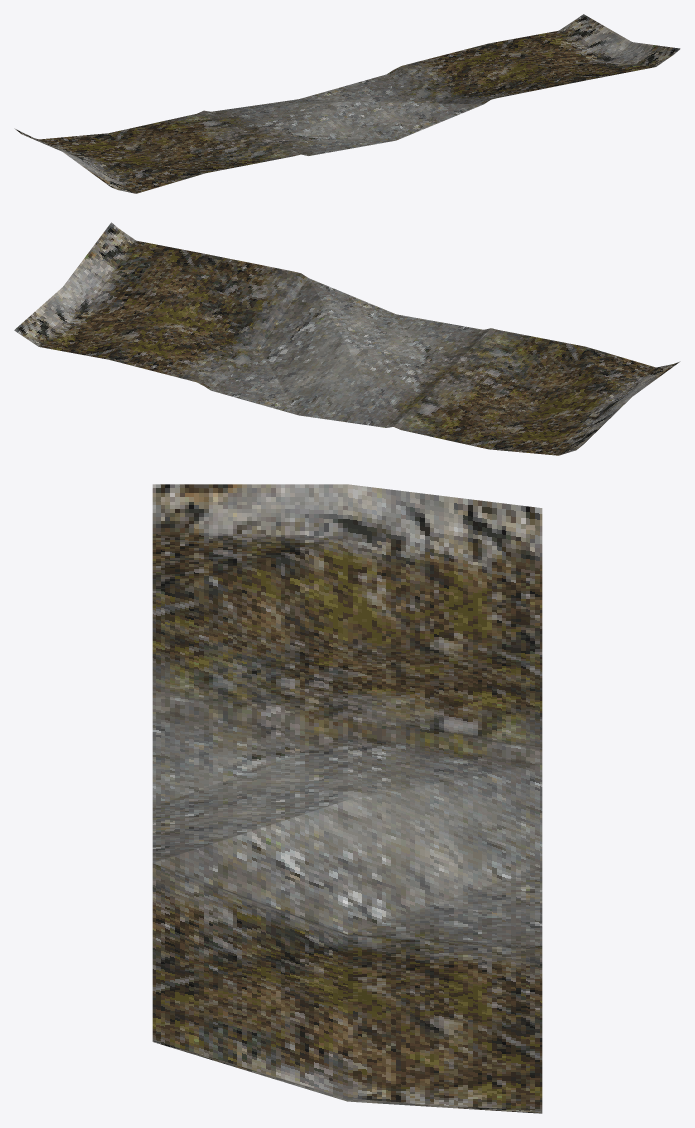
The model's file is 4_road_02_end_downHill.glb.
The picture shows the model from 3 angles, top to bottom: view 1: azimuth 30°, elevation 25°; view 2: azimuth 150°, elevation 25°; view 3: azimuth 270°, elevation 25°; orthographic projection. The views are drawn at different scales.
Visible parts, largest first — view 1: 4_road_02_end_downHill; view 2: 4_road_02_end_downHill; view 3: 4_road_02_end_downHill.
Boxes of the visible parts, x1=… form: 4_road_02_end_downHill: x1=14, y1=14, x2=680, y2=193; 4_road_02_end_downHill: x1=14, y1=222, x2=680, y2=455; 4_road_02_end_downHill: x1=152, y1=484, x2=542, y2=1113.
Bounding box in the file's own units: 27.01 × 2.37 × 8.
1 material, 1 textured.
